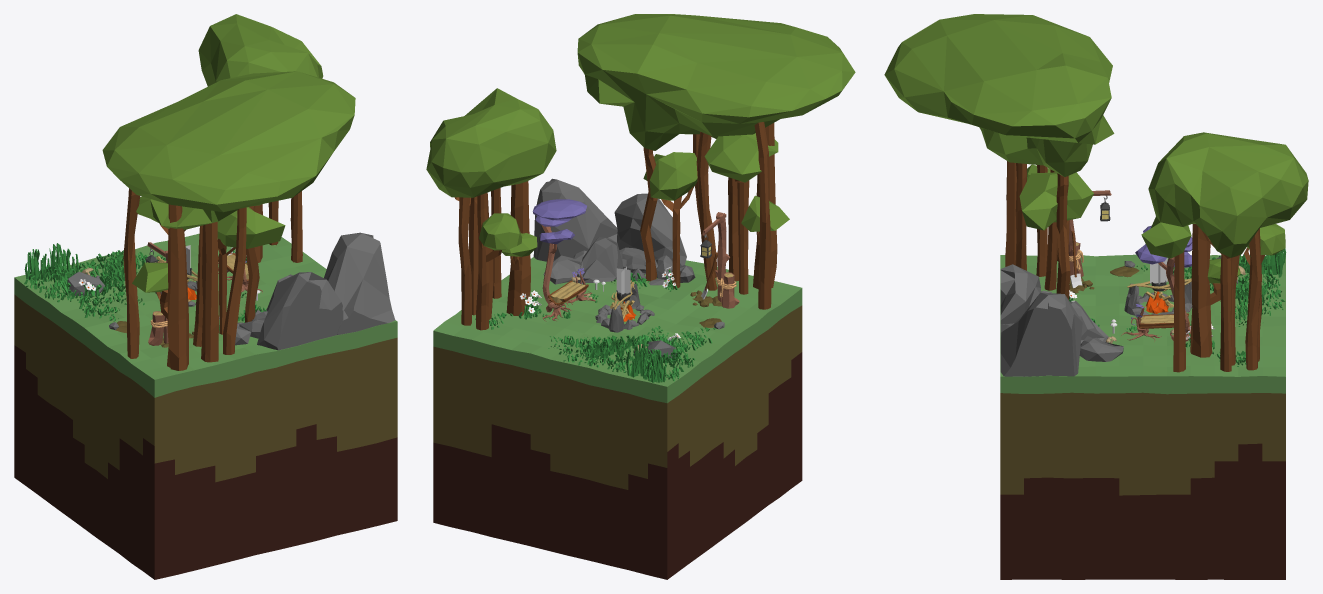
Rendered from Sketchfab_2018_04_04_02_53_38.fbx.
3 views of the same model, side by side, from view 1: azimuth 30°, elevation 25°; view 2: azimuth 150°, elevation 25°; view 3: azimuth 270°, elevation 25° (orthographic). The views are drawn at different scales.
Visible parts, largest first — view 1: Cube, Mball.010, Mball.000, Icosphere.027, Icosphere.028, Cylinder.009, Cylinder.010, Cylinder.006, Cylinder.007, Cylinder.011, Cylinder.004, Cylinder.012 (+3 smaller); view 2: Cube, Mball.010, Mball.000, Icosphere.027, Icosphere.028, Cylinder.006, Cylinder.001, Mball.011, Icosphere.006, Mball.006, Cylinder.002, Cylinder.012 (+11 smaller); view 3: Cube, Mball.010, Mball.000, Icosphere.027, Cylinder.001, Icosphere.028, Cylinder.005, Cylinder.003, Cylinder.011, Cylinder.004, Mball.011, Cylinder.010 (+7 smaller).
Part boxes in pixels (left/top/right/bottom): Cube: left=14, top=233, right=397, bottom=579; Mball.010: left=102, top=71, right=355, bottom=292; Mball.000: left=198, top=14, right=323, bottom=86; Icosphere.027: left=324, top=232, right=395, bottom=334; Icosphere.028: left=257, top=272, right=343, bottom=350; Cylinder.009: left=156, top=204, right=188, bottom=370; Cylinder.010: left=201, top=221, right=218, bottom=362; Cylinder.006: left=123, top=188, right=140, bottom=358; Cylinder.007: left=223, top=207, right=246, bottom=354; Cylinder.011: left=245, top=206, right=259, bottom=322; Cylinder.004: left=290, top=191, right=302, bottom=262; Cylinder.012: left=193, top=225, right=203, bottom=346; Cube: left=433, top=257, right=802, bottom=579; Mball.010: left=577, top=14, right=855, bottom=231; Mball.000: left=426, top=88, right=556, bottom=197; Icosphere.027: left=533, top=178, right=617, bottom=261; Icosphere.028: left=614, top=193, right=686, bottom=265; Cylinder.006: left=754, top=122, right=771, bottom=309; Cylinder.001: left=506, top=181, right=530, bottom=316; Mball.011: left=479, top=213, right=537, bottom=256; Icosphere.006: left=577, top=237, right=623, bottom=282; Mball.006: left=532, top=199, right=586, bottom=244; Cylinder.002: left=476, top=193, right=501, bottom=330; Cylinder.012: left=696, top=132, right=717, bottom=290; Cube: left=1000, top=254, right=1285, bottom=579; Mball.010: left=884, top=14, right=1114, bottom=230; Mball.000: left=1141, top=132, right=1308, bottom=258; Icosphere.027: left=1000, top=292, right=1082, bottom=376; Cylinder.001: left=1190, top=224, right=1220, bottom=357; Icosphere.028: left=1000, top=264, right=1040, bottom=332; Cylinder.005: left=1245, top=230, right=1261, bottom=370; Cylinder.003: left=1202, top=231, right=1237, bottom=371; Cylinder.011: left=1056, top=173, right=1070, bottom=299; Cylinder.004: left=1173, top=251, right=1185, bottom=372; Mball.011: left=1207, top=224, right=1285, bottom=283; Cylinder.010: left=1006, top=161, right=1016, bottom=266.
Bounding box in the file's own units: 2467 × 3409 × 2882.
